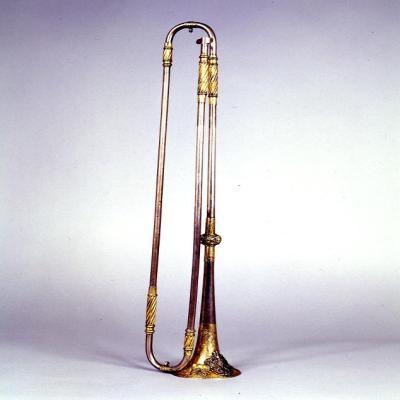other: (145, 22, 242, 380)
